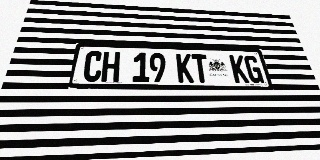1: (132, 52, 149, 82)
9: (150, 53, 166, 82)
C: (82, 51, 103, 82)
G: (243, 55, 264, 83)
H: (101, 51, 120, 82)
K: (229, 55, 250, 83), (176, 53, 194, 83)
T: (191, 54, 210, 83)
